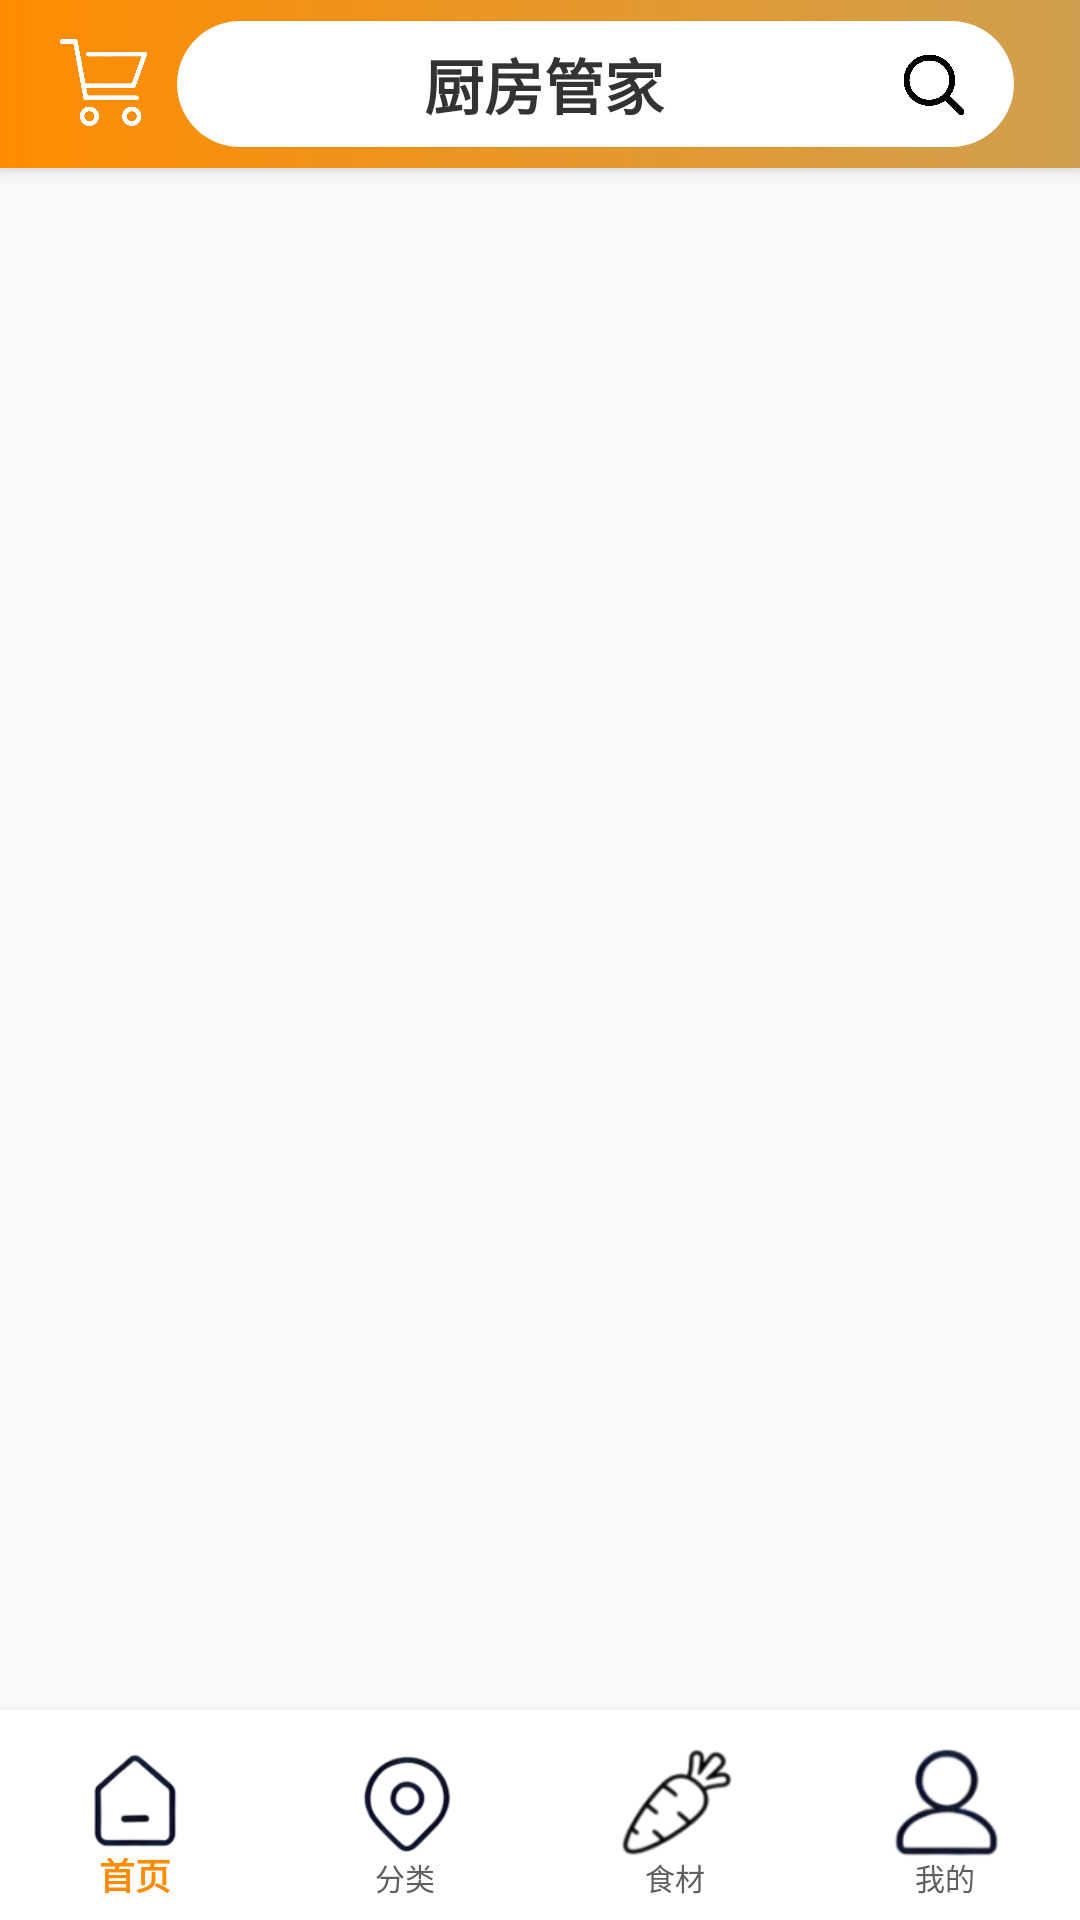

Named icons in this screenshot (1080×1920) and their centers, (x,y):
待购买: (103,82)
搜索: (933,84)
